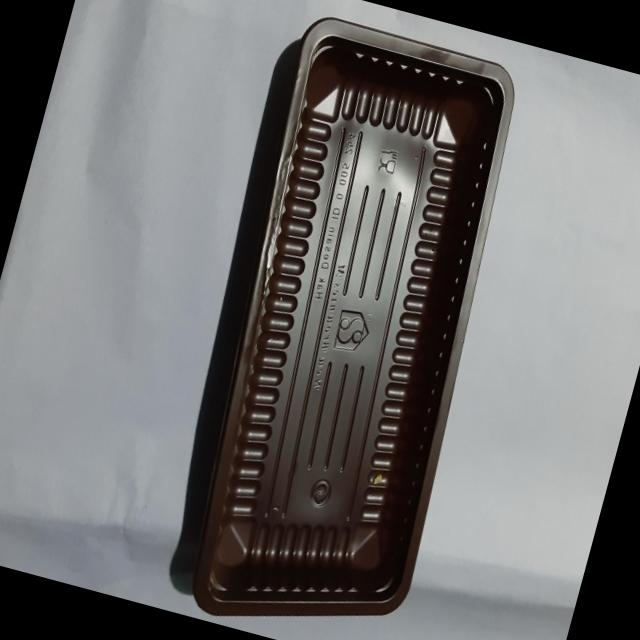KemasanPlastik: (149, 13, 546, 640)
